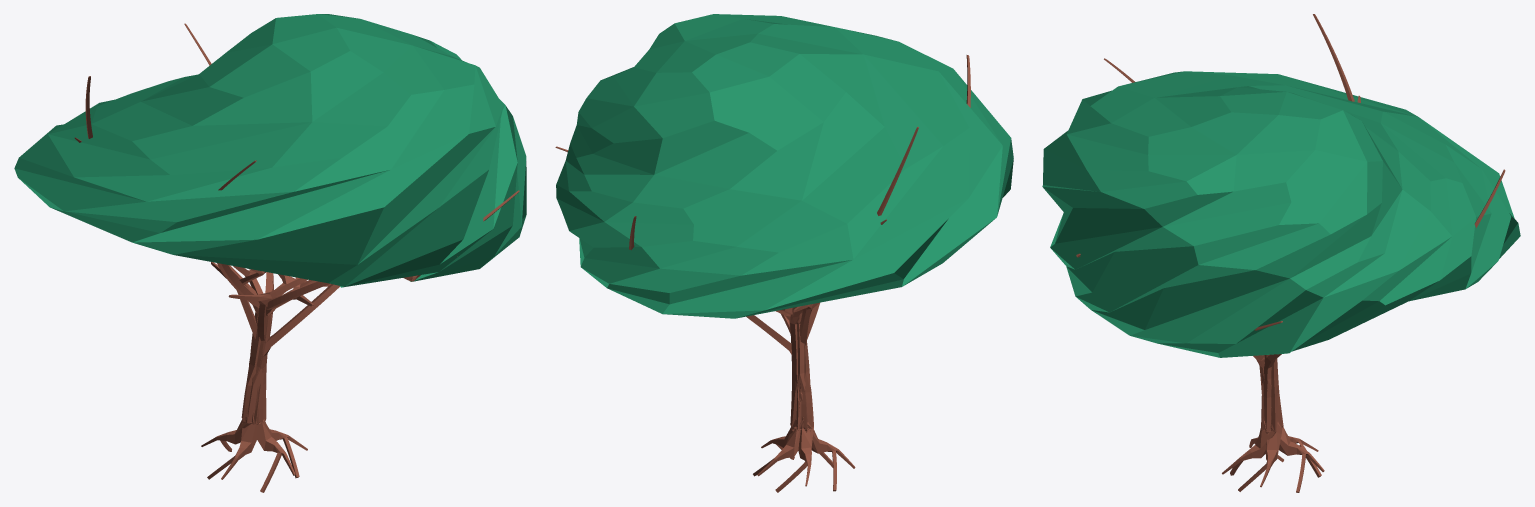
File: tree1.fbx
3 renders of one model, left to right at view 1: azimuth 30°, elevation 25°; view 2: azimuth 150°, elevation 25°; view 3: azimuth 270°, elevation 25°, orthographic. The views are drawn at different scales.
Parts seen in each view (by area): view 1: Icosphere, Plane; view 2: Icosphere, Plane; view 3: Icosphere, Plane.
Boxes of the visible parts, x1,y1,x2,y2 form: Icosphere: (14, 14, 526, 287); Plane: (74, 23, 519, 492); Icosphere: (556, 14, 1013, 318); Plane: (555, 55, 970, 492); Icosphere: (1042, 71, 1520, 357); Plane: (1067, 14, 1505, 492).
Bounding box in the file's own units: 81.18 × 73.34 × 78.23.
